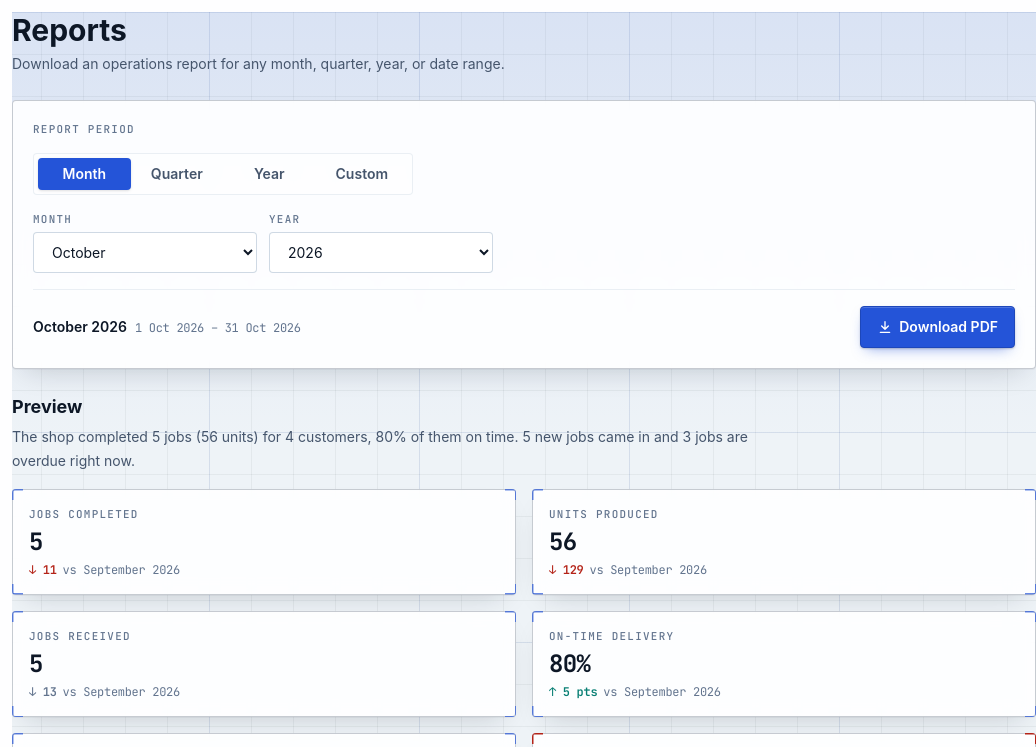
Scenario: Reports page › never offers a month or quarter that has not started
Click the radio button labelled "Quarter": (177, 174) [130,158,223,190]
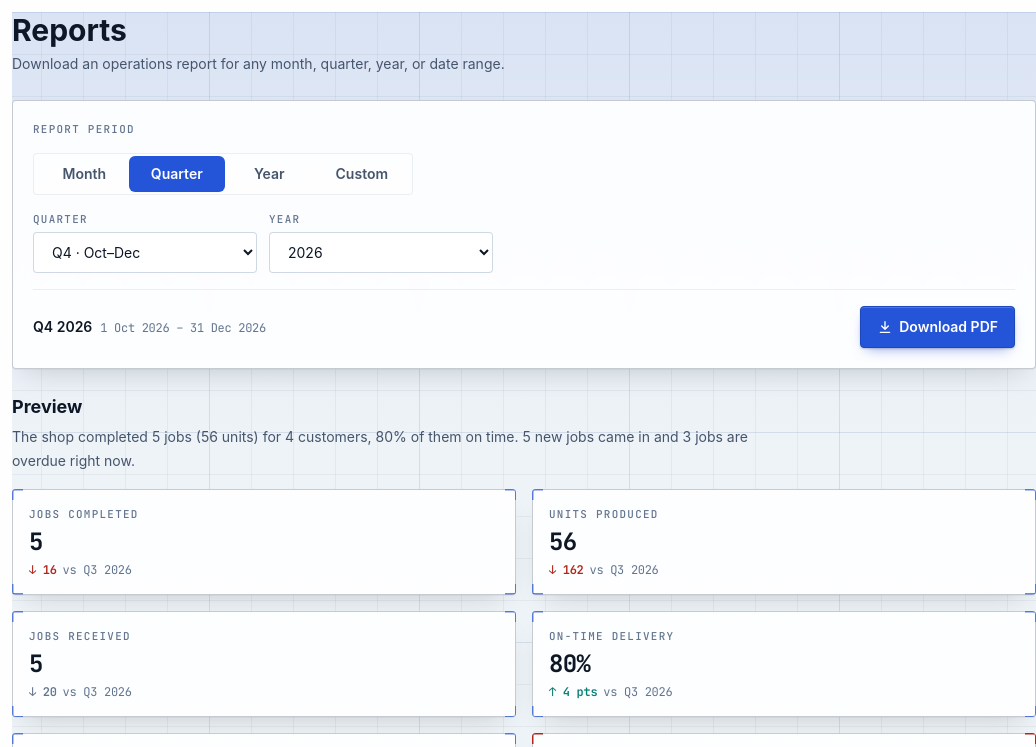
Select "2025" in the dropdown labelled "Year": (381, 252) [269,232,493,273]
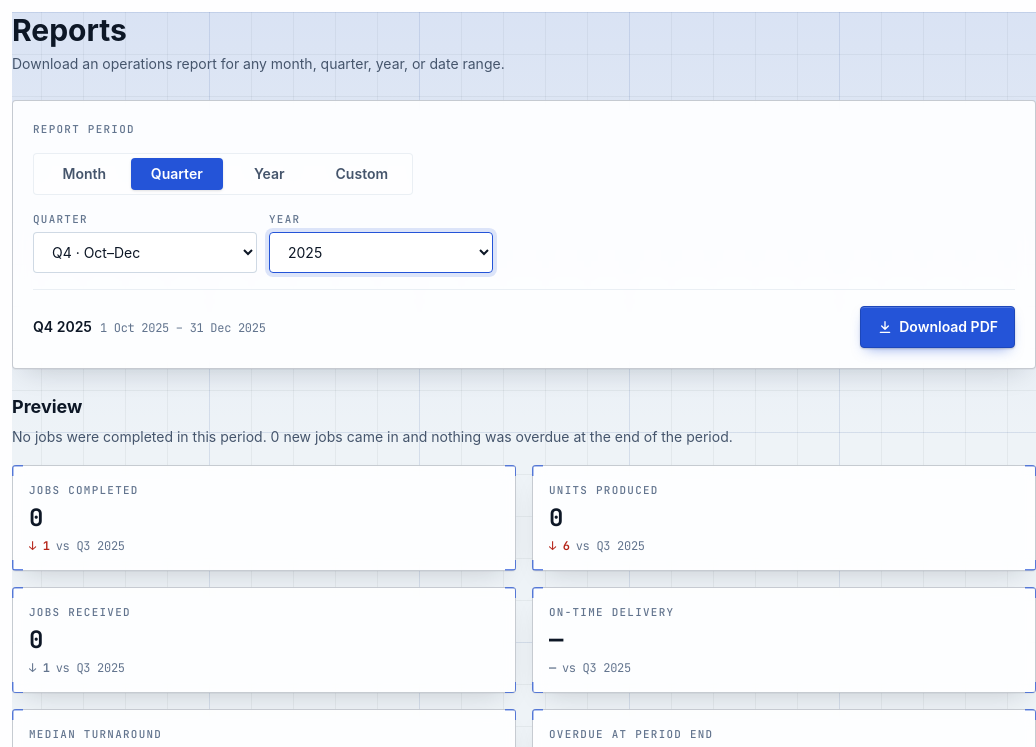
expect the text "Q4 2025" is shown: met, box [33,318,92,335]
